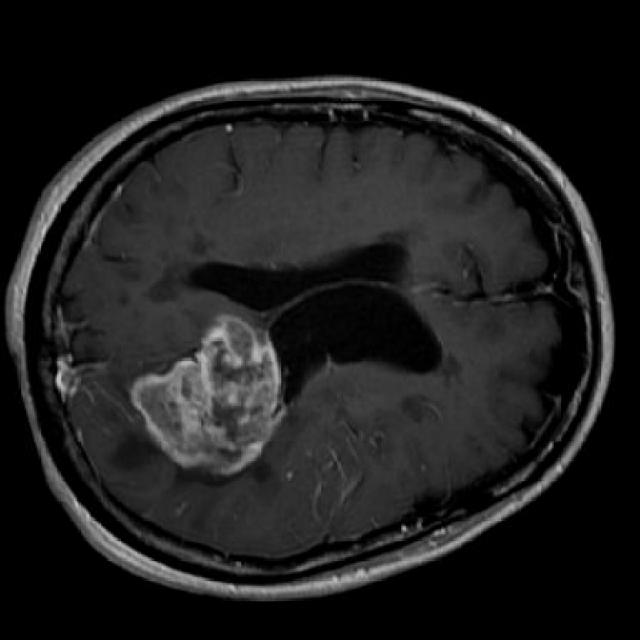Brain-Tumor: (125, 307, 301, 490)
